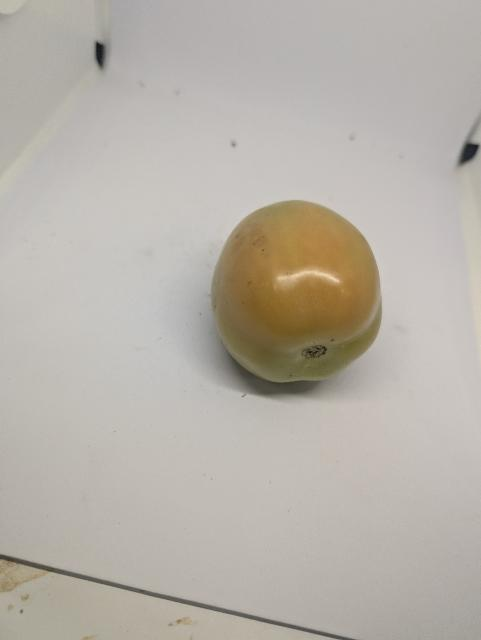breaker: (204, 196, 388, 391)
